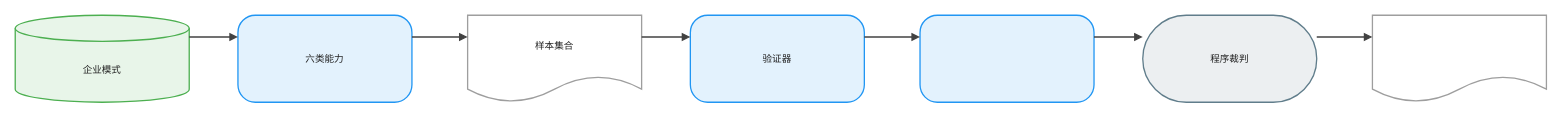
The diagram is 1563 pixels wide and 118 high, and some of its shapes have lost their labels. The centre of each missing label's shape, as x and y in pixels:
"总分" belongs at (x=1459, y=58).
"模型输出" belongs at (x=1006, y=58).
